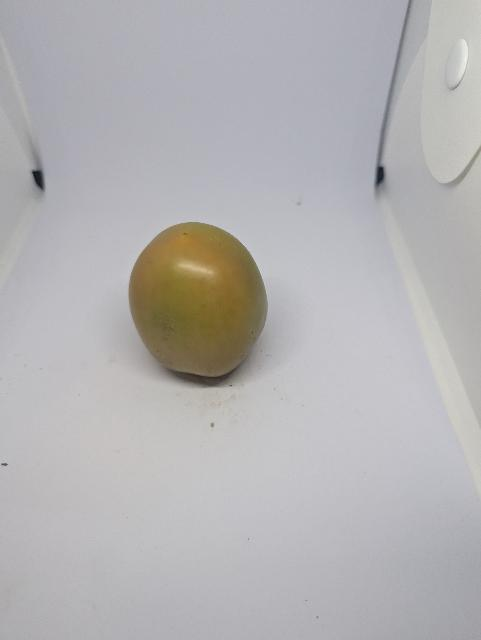breaker: (126, 216, 275, 385)
